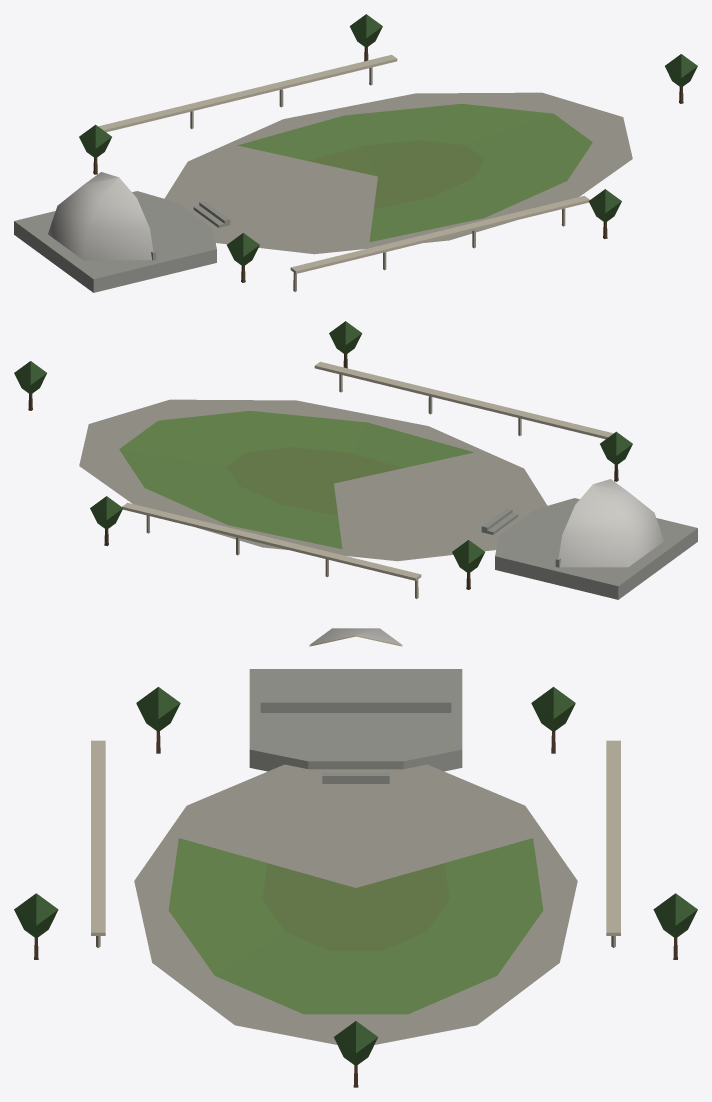
Rendered from mobile-low.glb.
The picture shows the model from 3 angles, top to bottom: view 1: azimuth 30°, elevation 25°; view 2: azimuth 150°, elevation 25°; view 3: azimuth 270°, elevation 25°; orthographic projection. The views are drawn at different scales.
Parts seen in each view (by area): view 1: lm.park-bandshell; view 2: lm.park-bandshell; view 3: lm.park-bandshell.
Boxes of the visible parts, x1,y1,x2,y2 form: lm.park-bandshell: [14, 14, 697, 292]; lm.park-bandshell: [14, 321, 697, 599]; lm.park-bandshell: [14, 628, 697, 1087].
Bounding box in the file's own units: 178 × 18.6 × 122.
